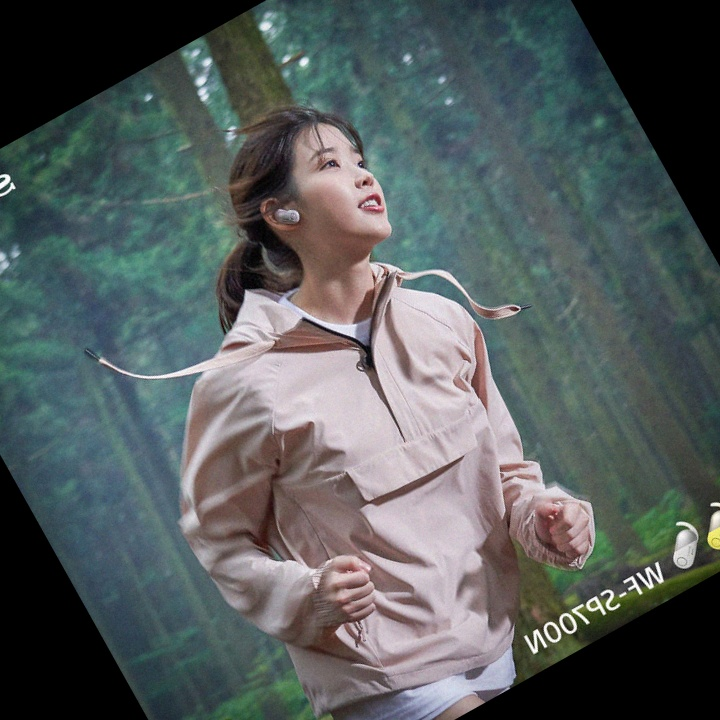earphone: (255, 188, 305, 240)
